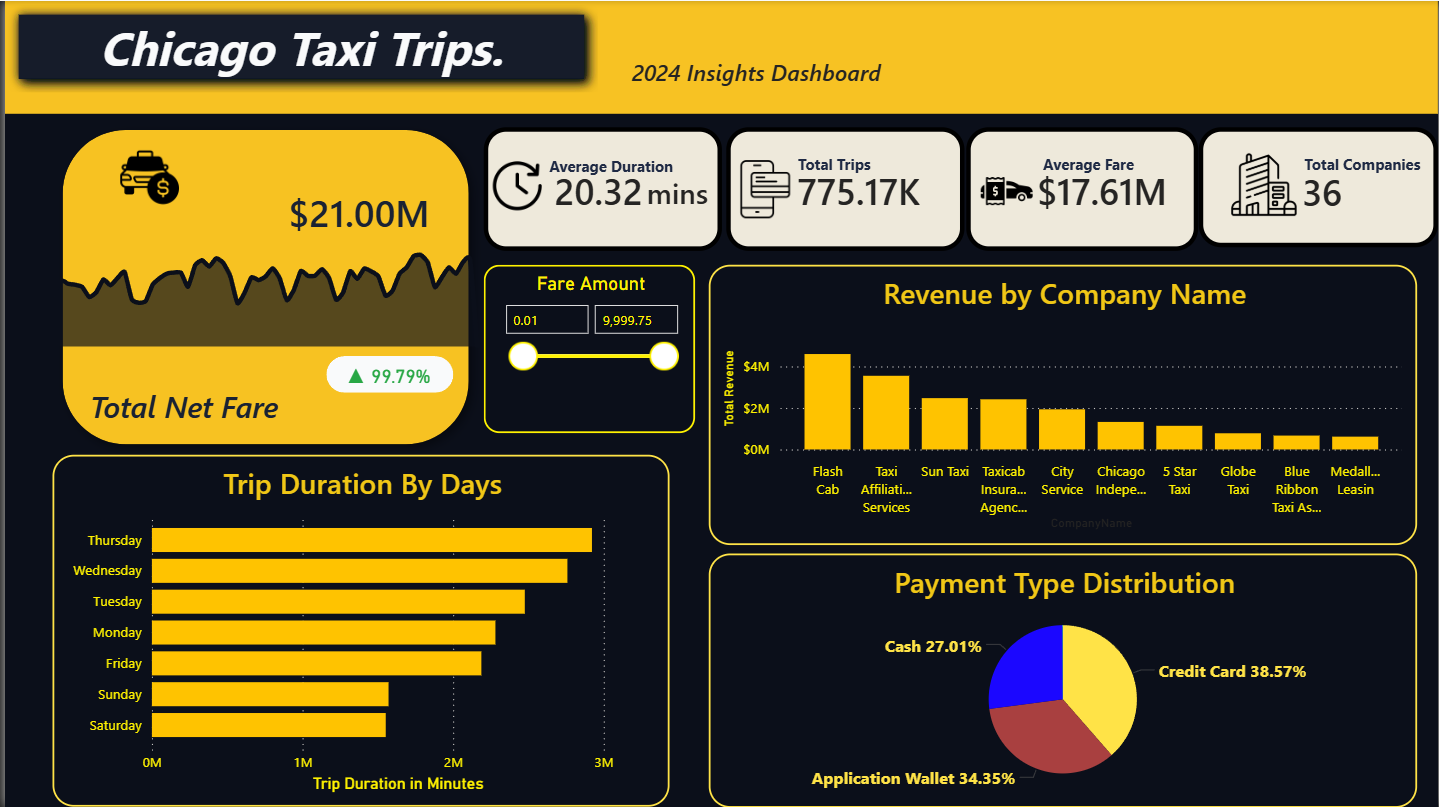

The page's visual inventory and layout, read from the dashboard file:
{"tool":"powerbi","page":{"name":"Page 1","canvas":[1280,720],"ordinal":0},"visuals":[{"type":"shape","box":[0,0,1280.2,100.7],"z":0},{"type":"shape","box":[76.1,110.2,365.7,295.5],"z":0,"group":"g1"},{"type":"group","id":"g1","title":"Group 1","box":[51.1,110.2,462.5,295.5],"z":1000},{"type":"card","fields":{"Values":["AllMeasures.Total Fares"]},"box":[148.7,130.1,364.8,110.2],"z":1000,"group":"g1"},{"type":"shape","box":[0,0,529.5,81.8],"z":2000},{"type":"shape","box":[302.2,313.6,113.6,33],"z":2000,"group":"g1"},{"type":"textbox","title":"2024 Insights Dashboard ","box":[114.8,72.7,300,28.4],"z":3000},{"type":"card","fields":{"Values":["AllMeasures.KPI Display"]},"box":[257.4,291.4,200,79.5],"z":3000,"group":"g1"},{"type":"textbox","title":"Executive overview","box":[784.4,22.8,307.8,39.5],"z":4000},{"type":"lineChart","fields":{"Y":["AllMeasures.Total Revenue"],"Category":["DW DimDate.FullDate"]},"box":[51.1,185.3,401.4,125.5],"z":4000,"group":"g1"},{"type":"shape","box":[628.7,19.2,180.8,43.1],"z":5000},{"type":"image","box":[97,154.7,97.3,55.9],"z":5000,"group":"g1"},{"type":"cardVisual","fields":{"Data":["CountNonNull(DimCompany.CompanyKey)"]},"box":[938.6,120.5,227.3,108],"z":6000,"group":"g4"},{"type":"group","id":"g2","title":"Group 2","box":[440.1,121.6,230.7,106.8],"z":6000},{"type":"cardVisual","fields":{"Data":["CountNonNull(FactTrip.TripKey)"]},"box":[440.1,121.6,230,106.9],"z":6000,"group":"g2"},{"type":"cardVisual","fields":{"Data":["Avg(FactTrip.FareAmount)"]},"box":[692,121.6,234.1,106.8],"z":6000,"group":"g3"},{"type":"group","id":"g3","title":"Group 2","box":[692,121.6,234.1,106.8],"z":7000},{"type":"image","box":[460.9,140.1,56.2,64.6],"z":7000,"group":"g2"},{"type":"image","box":[969.3,142.1,62.5,60.2],"z":7000,"group":"g4"},{"type":"image","box":[725,143.2,62.5,69.3],"z":7000,"group":"g3"},{"type":"group","id":"g4","title":"Group 2","box":[938.6,120.5,227.3,108],"z":8000},{"type":"textbox","title":"Average Fare","box":[793.1,137.4,122.7,23.9],"z":8000,"group":"g3"},{"type":"textbox","title":"Total Trips","box":[513.9,140.1,130,23.1],"z":8000,"group":"g2"},{"type":"textbox","title":"Total Companies","box":[1037.9,144.4,122.7,23.9],"z":8000,"group":"g4"},{"type":"pieChart","title":"Payment Type Distribution","fields":{"Category":["DimPaymentType.PaymentTypeCode"],"Y":["CountNonNull(FactTrip.TripID)"]},"box":[69.3,419.3,426.1,265.9],"z":9000},{"type":"clusteredColumnChart","fields":{"Y":["AllMeasures.Total Revenue"],"Category":["DimCompany.CompanyName"]},"box":[513.6,419.3,646.6,265.9],"z":10000}]}

Visuals, with their boxes in screenshot pixels (x1, y1, x2, y2), scaled from the page's 1280x720 canvas onto the 1439x807 screenshot:
shape: l=0, t=0, r=1438, b=113
shape: l=86, t=124, r=497, b=455
"Group 1" group: l=57, t=124, r=577, b=455
card - AllMeasures.Total Fares: l=167, t=146, r=577, b=269
shape: l=0, t=0, r=595, b=92
shape: l=340, t=351, r=467, b=388
"2024 Insights Dashboard " textbox: l=129, t=81, r=466, b=113
card - AllMeasures.KPI Display: l=289, t=327, r=514, b=416
"Executive overview" textbox: l=882, t=26, r=1228, b=70
lineChart - AllMeasures.Total Revenue x DW DimDate.FullDate: l=57, t=208, r=509, b=348
shape: l=707, t=22, r=910, b=70
image: l=109, t=173, r=218, b=236
cardVisual - CountNonNull(DimCompany.CompanyKey): l=1055, t=135, r=1311, b=256
"Group 2" group: l=495, t=136, r=754, b=256
cardVisual - CountNonNull(FactTrip.TripKey): l=495, t=136, r=753, b=256
cardVisual - Avg(FactTrip.FareAmount): l=778, t=136, r=1041, b=256
"Group 2" group: l=778, t=136, r=1041, b=256
image: l=518, t=157, r=581, b=229
image: l=1090, t=159, r=1160, b=227
image: l=815, t=161, r=885, b=238
"Group 2" group: l=1055, t=135, r=1311, b=256
"Average Fare" textbox: l=892, t=154, r=1030, b=181
"Total Trips" textbox: l=578, t=157, r=724, b=183
"Total Companies" textbox: l=1167, t=162, r=1305, b=189
"Payment Type Distribution" pieChart: l=78, t=470, r=557, b=768
clusteredColumnChart - AllMeasures.Total Revenue x DimCompany.CompanyName: l=577, t=470, r=1304, b=768
